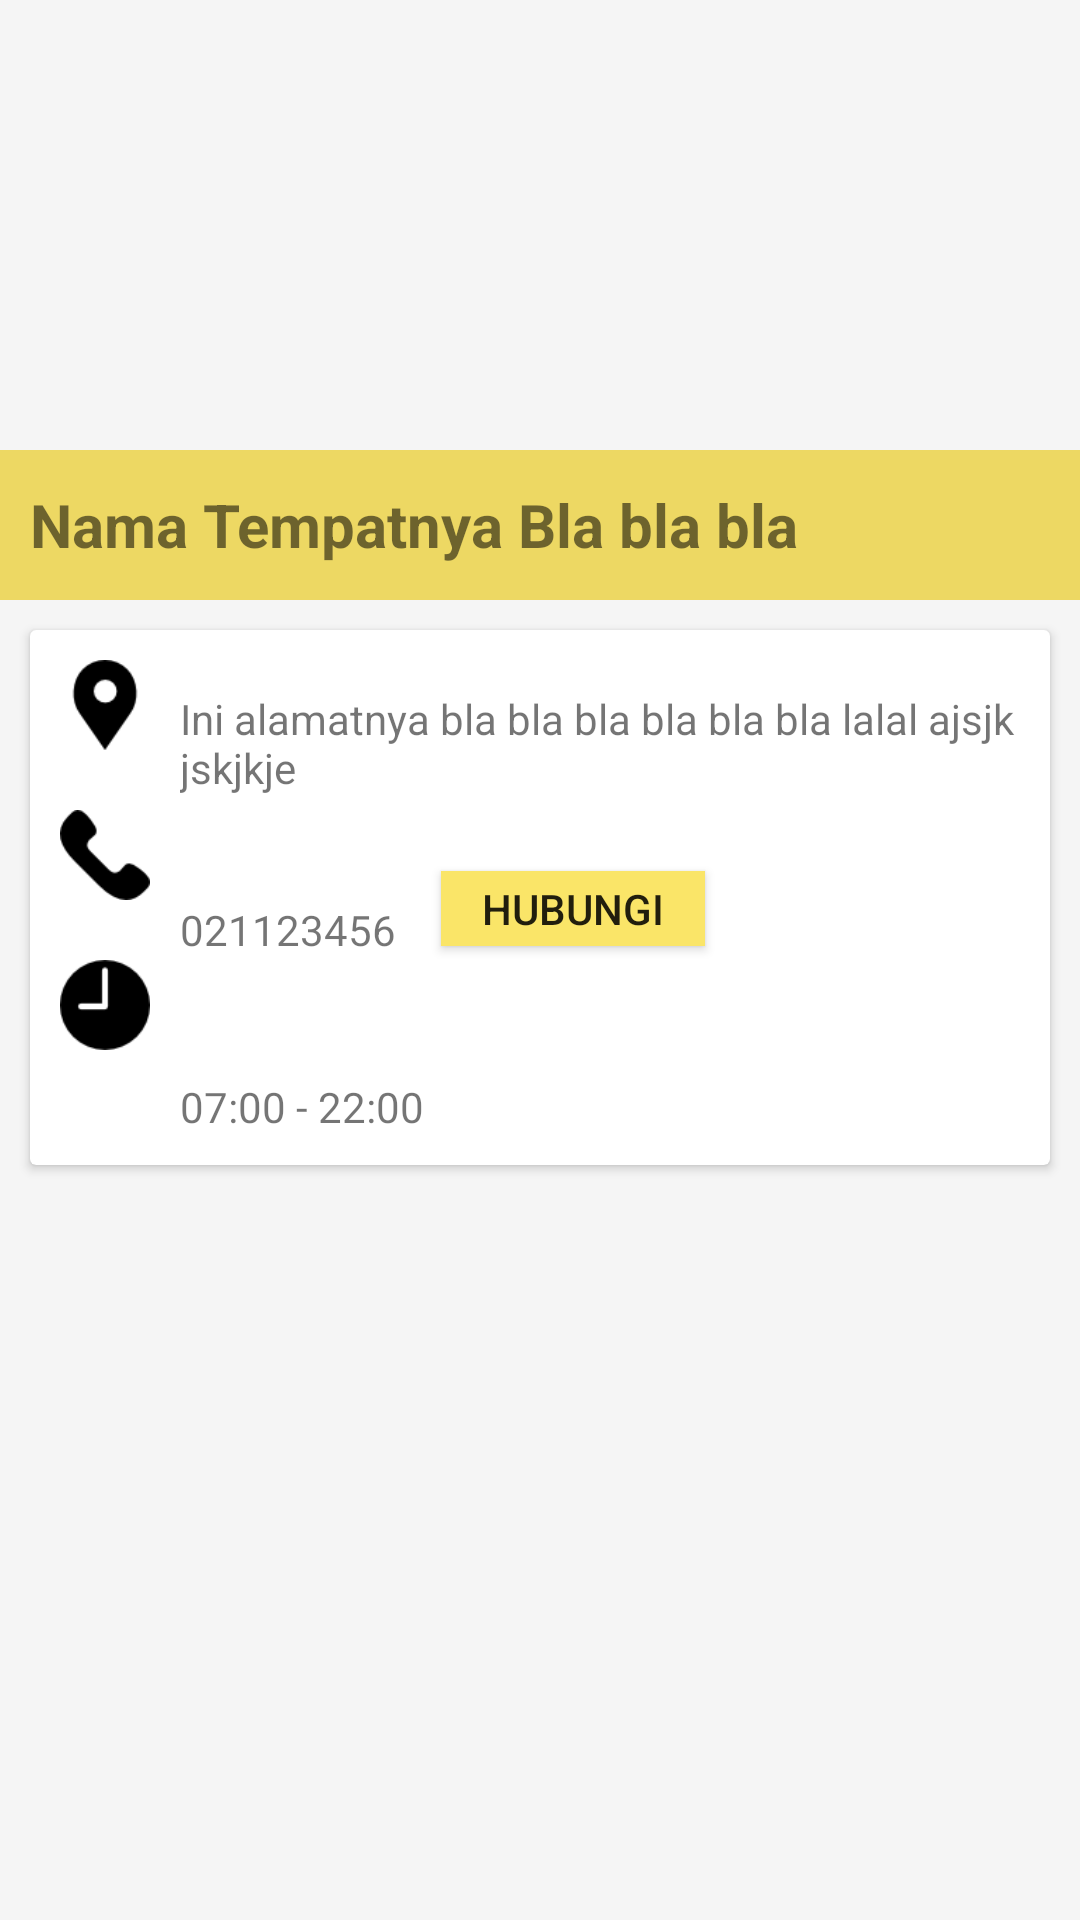

Icons on this 1080 x 1920 Android screen, each with its box as (x1,y1,x2,y2):
detail alamat: (72,660,138,750)
detail jam: (60,960,150,1050)
detail phone: (60,810,150,900)
